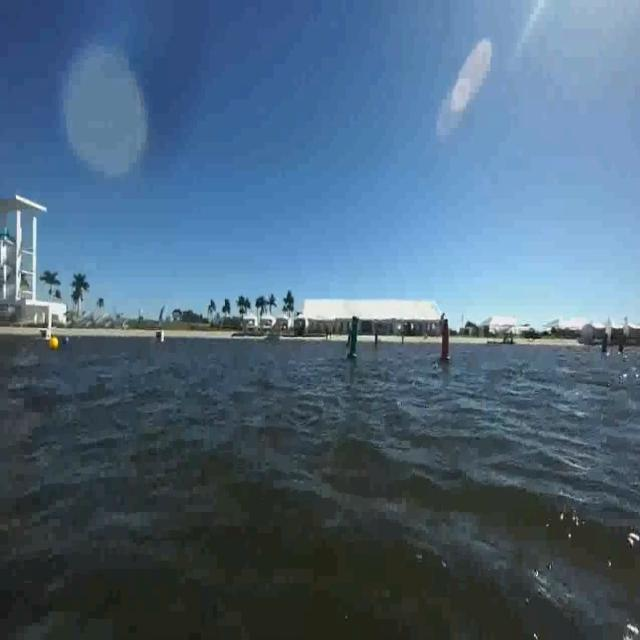green-column-buoy: (342, 312, 363, 366)
red-column-buoy: (437, 314, 455, 376)
yellow-buoy: (50, 335, 60, 352)
